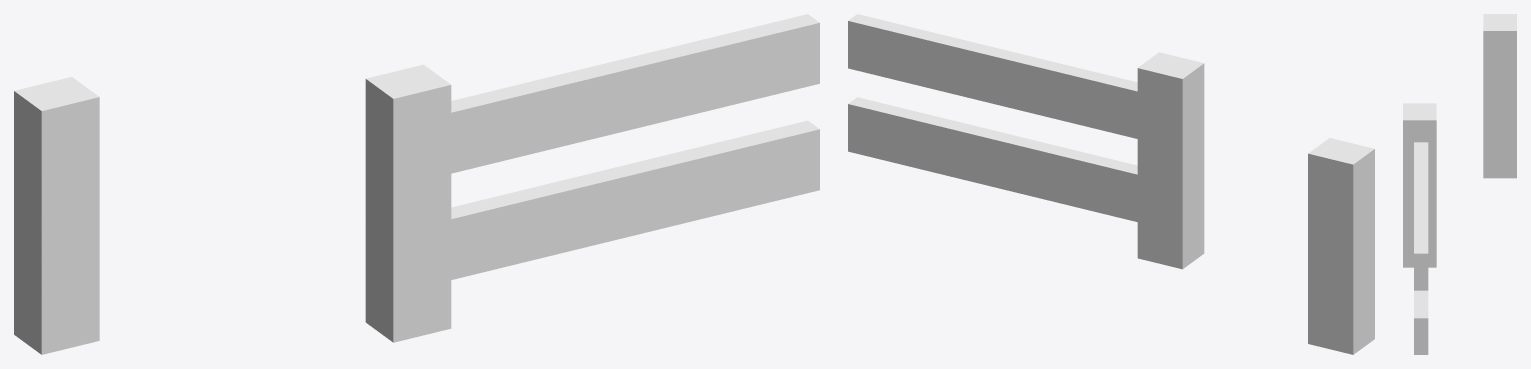
File: Svodidla.fbx
The picture shows the model from 3 angles, left to right: view 1: azimuth 30°, elevation 25°; view 2: azimuth 150°, elevation 25°; view 3: azimuth 270°, elevation 25°; orthographic projection. The views are drawn at different scales.
Parts seen in each view (by area): view 1: Cube.003, Cube.004, Cube.001, Cube.002; view 2: Cube.004, Cube.003, Cube.001, Cube.002; view 3: Cube.002, Cube.001, Cube.003, Cube.004.
Boxes of the visible parts, box(x1,y1,x2,y2) form: Cube.003: box(451, 14, 819, 173); Cube.004: box(451, 120, 819, 279); Cube.001: box(365, 64, 451, 342); Cube.002: box(14, 77, 99, 354); Cube.004: box(848, 97, 1137, 221); Cube.003: box(848, 14, 1137, 138); Cube.001: box(1137, 52, 1204, 269); Cube.002: box(1308, 138, 1374, 354); Cube.002: box(1483, 14, 1516, 178); Cube.001: box(1403, 103, 1436, 267); Cube.003: box(1414, 142, 1428, 290); Cube.004: box(1414, 290, 1428, 354).
Bounding box in the file's own units: 309 × 104 × 70.1.
